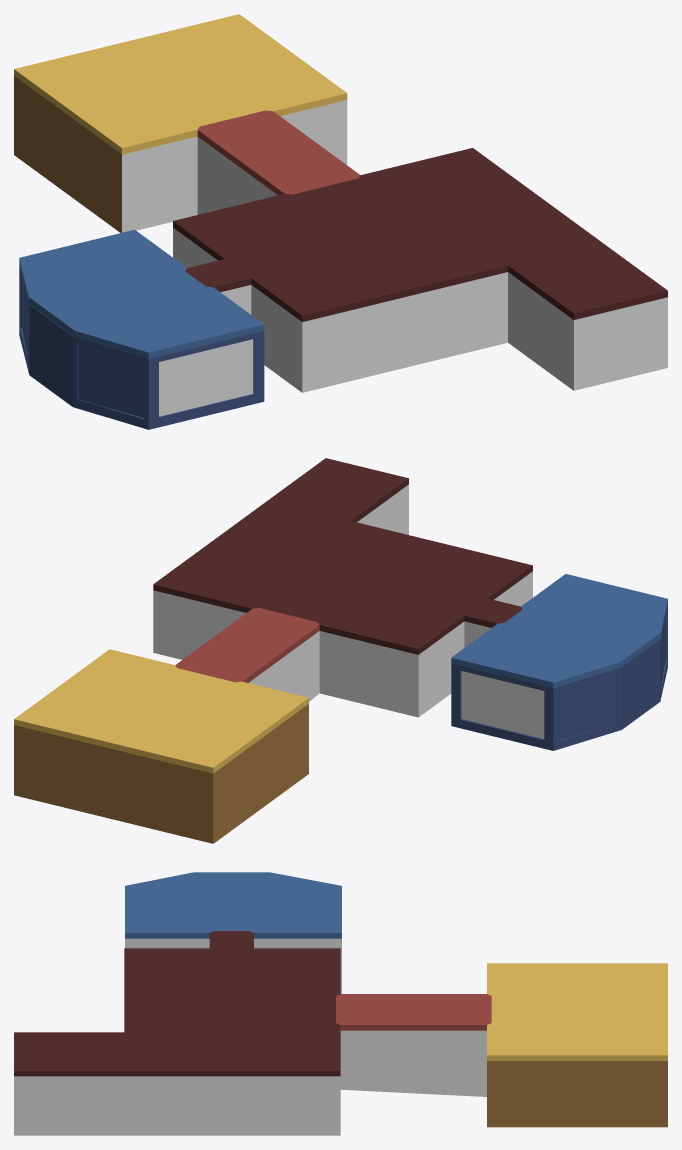
The model's file is casino.fbx.
The picture shows the model from 3 angles, top to bottom: view 1: azimuth 30°, elevation 25°; view 2: azimuth 150°, elevation 25°; view 3: azimuth 270°, elevation 25°; orthographic projection. The views are drawn at different scales.
Visible parts, largest first — view 1: celling, wall, galss, glass2; view 2: celling, wall, galss.001, glass3; view 3: celling, wall.
Part boxes in pixels (left/top/right/bottom): celling: left=14, top=14, right=667, bottom=358; wall: left=14, top=76, right=667, bottom=429; galss: left=159, top=339, right=253, bottom=416; glass2: left=78, top=343, right=144, bottom=417; celling: left=14, top=458, right=667, bottom=773; wall: left=14, top=484, right=667, bottom=843; galss.001: left=461, top=671, right=544, bottom=738; glass3: left=557, top=673, right=617, bottom=740; celling: left=14, top=872, right=667, bottom=1076; wall: left=14, top=938, right=667, bottom=1135.
Bounding box in the file's own units: 1295 × 219 × 1801.
